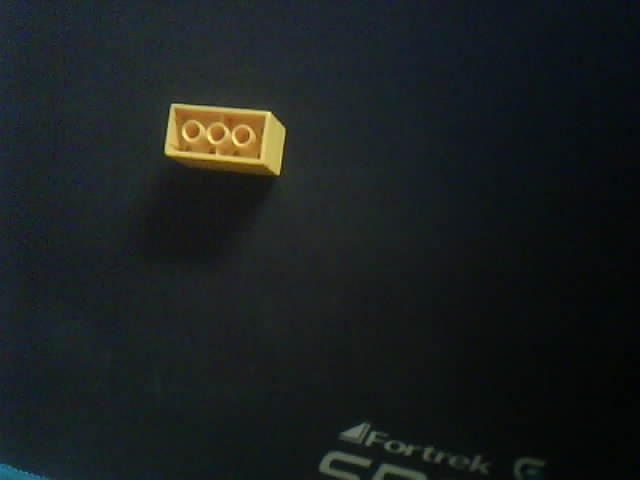lego: (162, 100, 288, 178)
